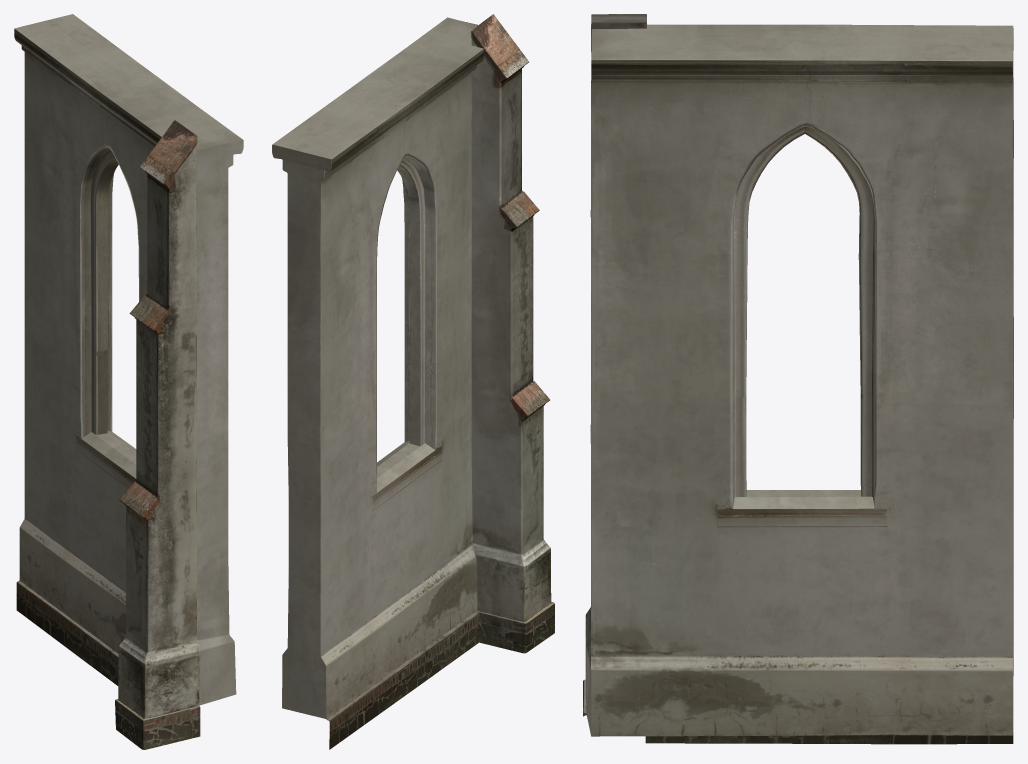
The model's file is sm_Church_01_32.fbx.
3 views of the same model, side by side, from view 1: azimuth 30°, elevation 25°; view 2: azimuth 150°, elevation 25°; view 3: azimuth 270°, elevation 25° (orthographic). The views are drawn at different scales.
Visible parts, largest first — view 1: sm_Church_01_32_LOD0; view 2: sm_Church_01_32_LOD0; view 3: sm_Church_01_32_LOD0.
Part boxes in pixels (x1,y1,x2,y2): sm_Church_01_32_LOD0: [14, 14, 243, 749]; sm_Church_01_32_LOD0: [272, 14, 554, 749]; sm_Church_01_32_LOD0: [583, 14, 1013, 744].
Size of the model in its own units: 114 by 331 by 623.
